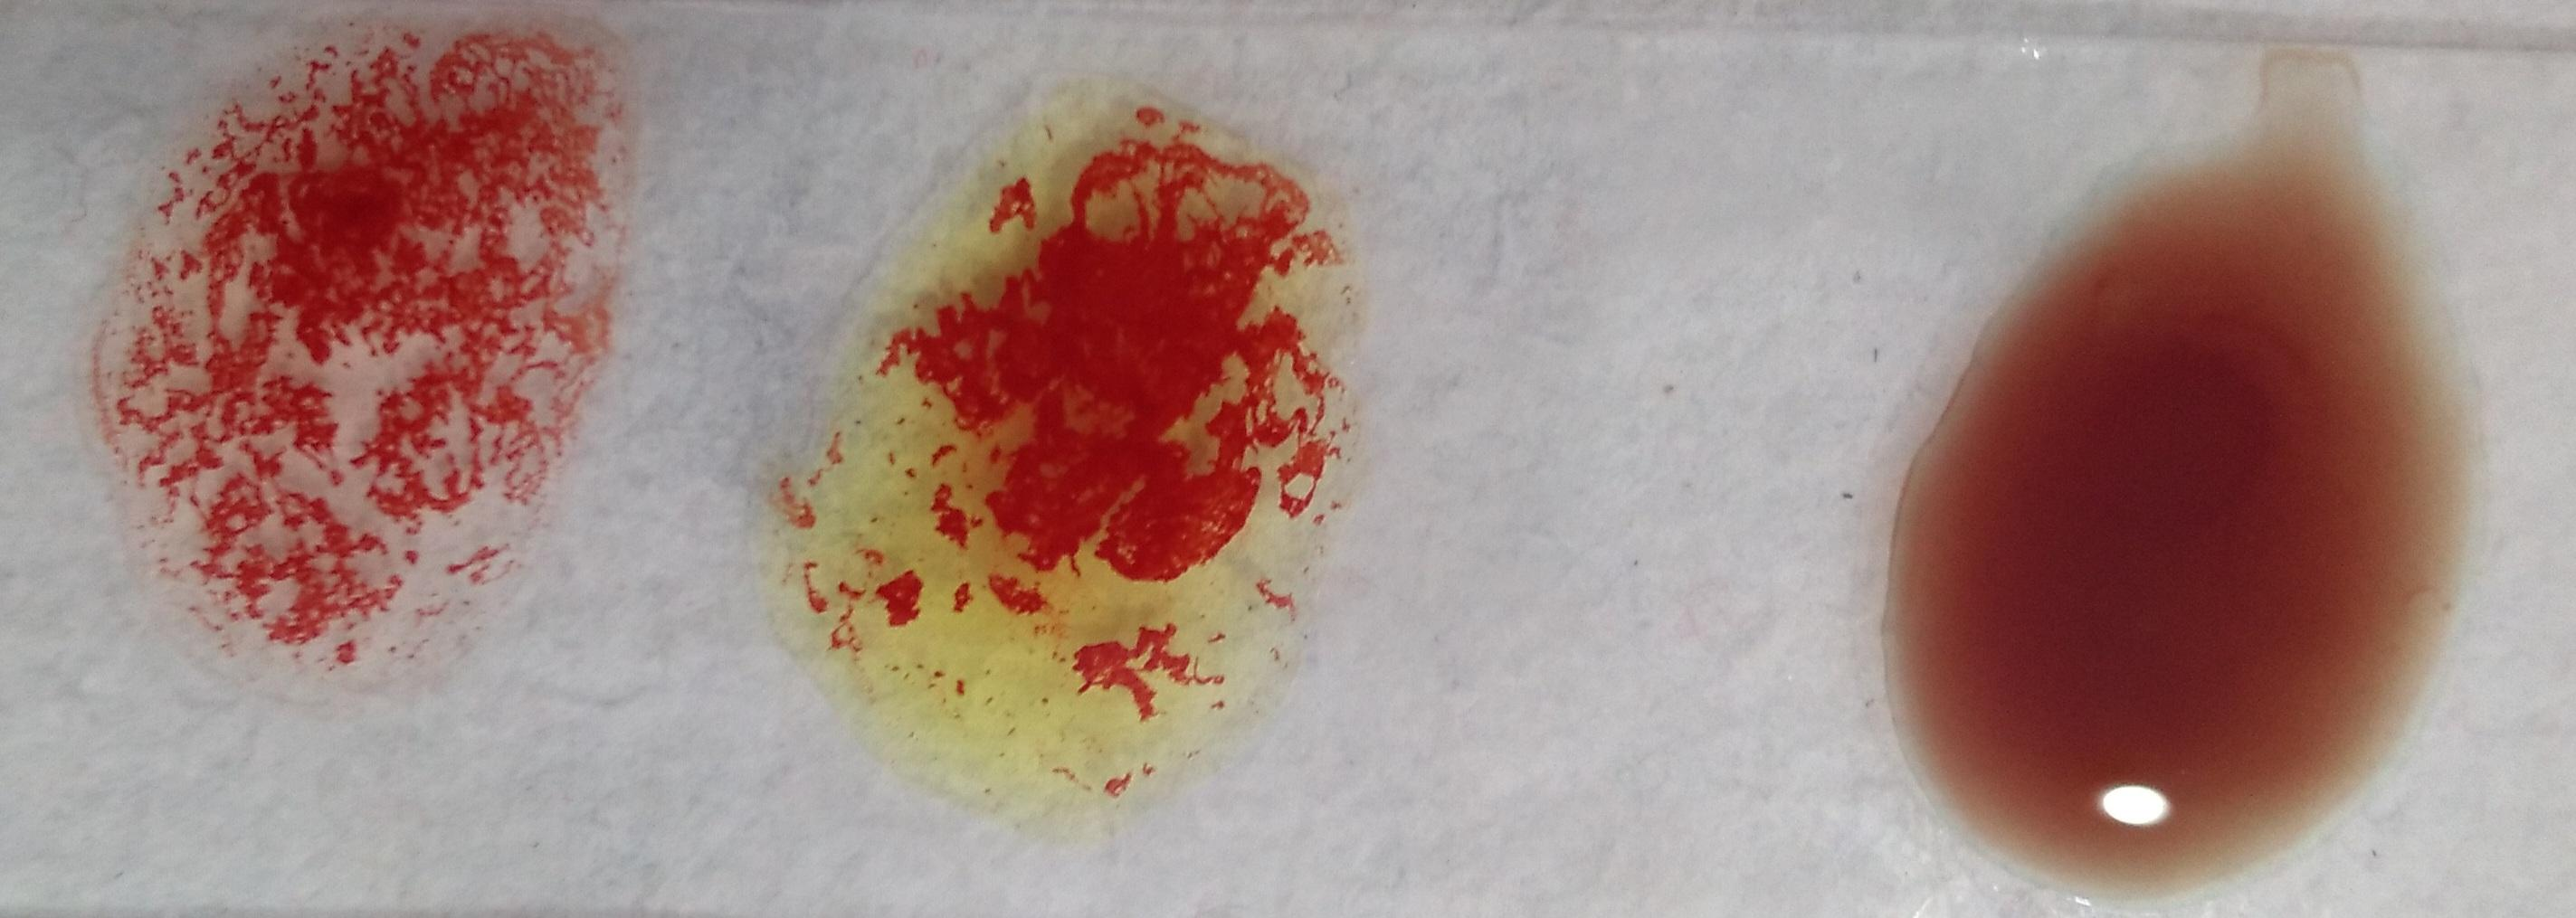B: (808, 72, 1345, 834)
D: (113, 20, 613, 677)
